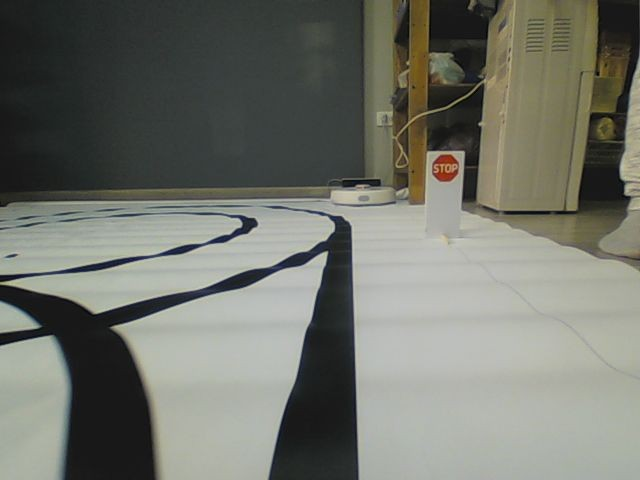Stop: (431, 153, 459, 181)
